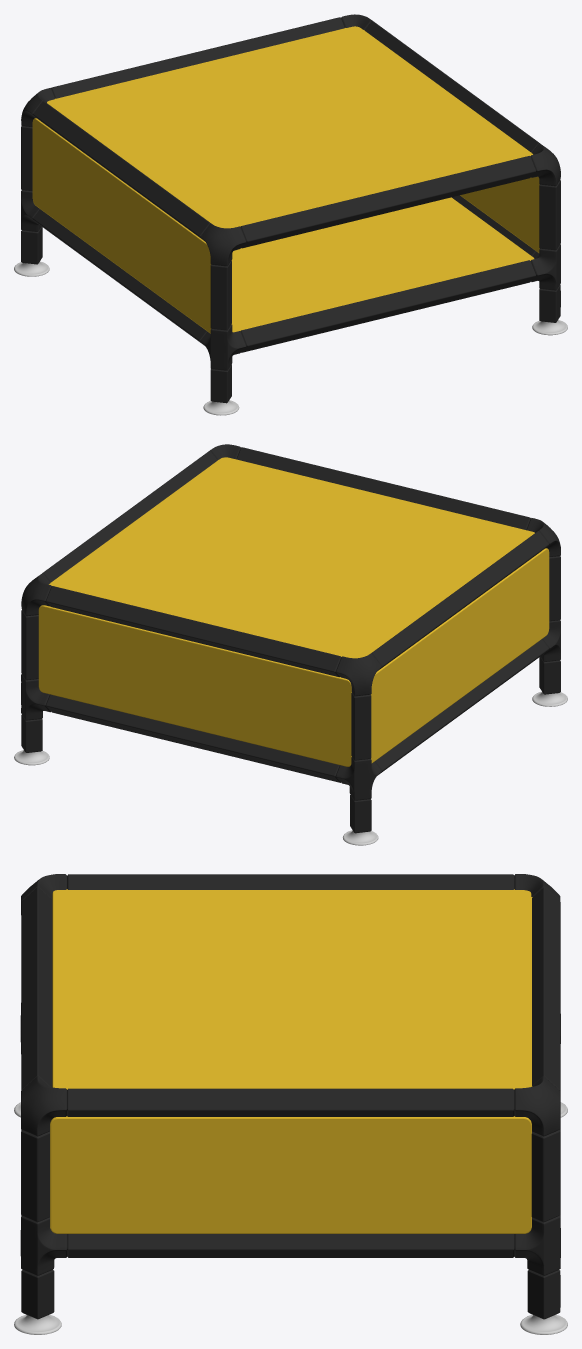
The picture shows the model from 3 angles, top to bottom: view 1: azimuth 30°, elevation 25°; view 2: azimuth 150°, elevation 25°; view 3: azimuth 270°, elevation 25°; orthographic projection. The views are drawn at different scales.
Parts seen in each view (by area): view 1: 374x374x79; view 2: 374x374x79; view 3: 374x374x79.
Part boxes in pixels (x1=…): 374x374x79: x1=14, y1=14, x2=567, y2=415; 374x374x79: x1=14, y1=444, x2=567, y2=845; 374x374x79: x1=14, y1=874, x2=567, y2=1334.
Bounding box in the file's own units: 0.4639 × 0.2184 × 0.4632.
